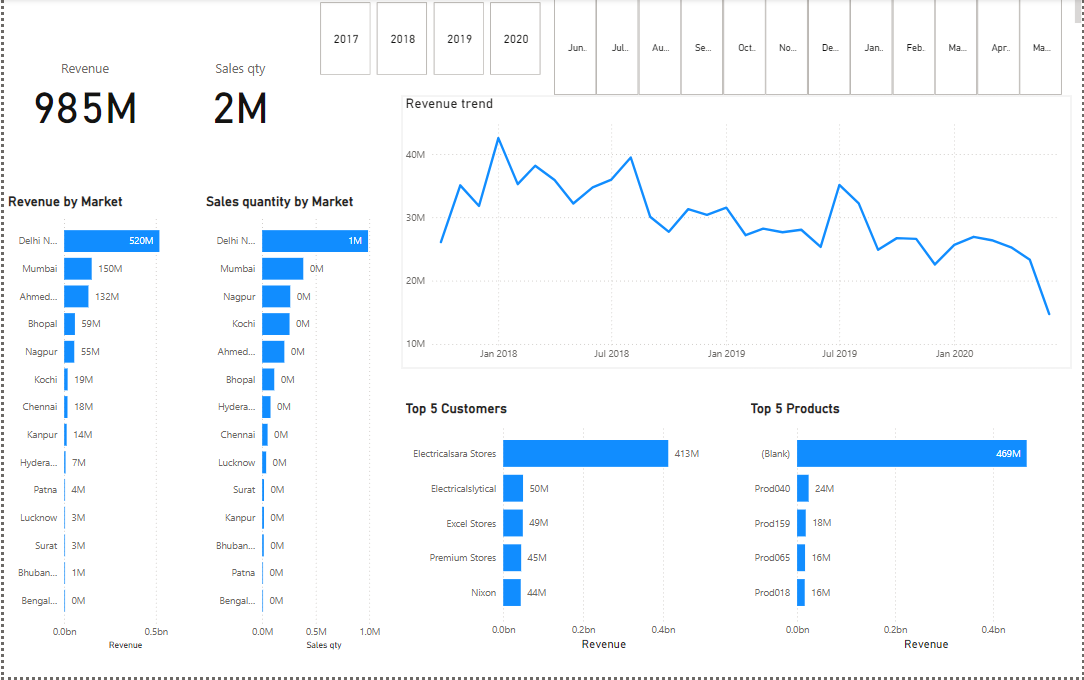

Layout of this report page (visuals, bound fields, positions):
{"tool":"powerbi","page":{"name":"Page 1","canvas":[1350,850],"ordinal":0},"visuals":[{"type":"cardVisual","fields":{"Data":["BaseMeasures (2).Revenue"]},"box":[0,0,203.3,244.7],"z":0},{"type":"cardVisual","fields":{"Data":["BaseMeasures (2).Sales qty"]},"box":[203.3,0,186.4,244.7],"z":1000},{"type":"barChart","title":"Revenue by Market","fields":{"Y":["BaseMeasures (2).Revenue"],"Category":["sales markets.markets_name"]},"box":[0,244.7,248.5,576],"z":2000},{"type":"barChart","title":"Sales quantity by Market","fields":{"Y":["BaseMeasures (2).Sales qty"],"Category":["sales markets.markets_name"]},"box":[248.5,244.7,248.5,576],"z":3000},{"type":"advancedSlicerVisual","fields":{"Values":["sales date.cy_date"]},"box":[687.1,0,662.6,122.4],"z":4000},{"type":"advancedSlicerVisual","fields":{"Values":["sales date.year"]},"box":[389.6,0,286.1,101.6],"z":5000},{"type":"barChart","title":"Top 5 Customers","fields":{"Y":["BaseMeasures (2).Revenue"],"Category":["sales customers.custmer_name"]},"box":[496.9,502.6,399.1,318.1],"z":6000},{"type":"barChart","title":"Top 5 Products","fields":{"Y":["BaseMeasures (2).Revenue"],"Category":["sales products.product_code"]},"box":[929.9,502.6,406.6,318.1],"z":7000},{"type":"lineChart","title":"Revenue trend","fields":{"Y":["BaseMeasures (2).Revenue"],"Category":["sales date.cy_date.Variation.Date Hierarchy.Year","sales date.cy_date.Variation.Date Hierarchy.Quarter","sales date.cy_date.Variation.Date Hierarchy.Month","sales date.cy_date.Variation.Date Hierarchy.Day"]},"box":[496.9,122.4,839.5,340.7],"z":8000}]}

Visuals, with their boxes in screenshot pixels (x1, y1, x2, y2), scaled from the page's 1350x850 canvas onto the 1084x680 screenshot:
cardVisual - BaseMeasures (2).Revenue: bbox=(0, 0, 163, 196)
cardVisual - BaseMeasures (2).Sales qty: bbox=(163, 0, 313, 196)
"Revenue by Market" barChart: bbox=(0, 196, 200, 657)
"Sales quantity by Market" barChart: bbox=(200, 196, 399, 657)
advancedSlicerVisual - sales date.cy_date: bbox=(552, 0, 1083, 98)
advancedSlicerVisual - sales date.year: bbox=(313, 0, 543, 81)
"Top 5 Customers" barChart: bbox=(399, 402, 719, 657)
"Top 5 Products" barChart: bbox=(747, 402, 1073, 657)
"Revenue trend" lineChart: bbox=(399, 98, 1073, 370)
